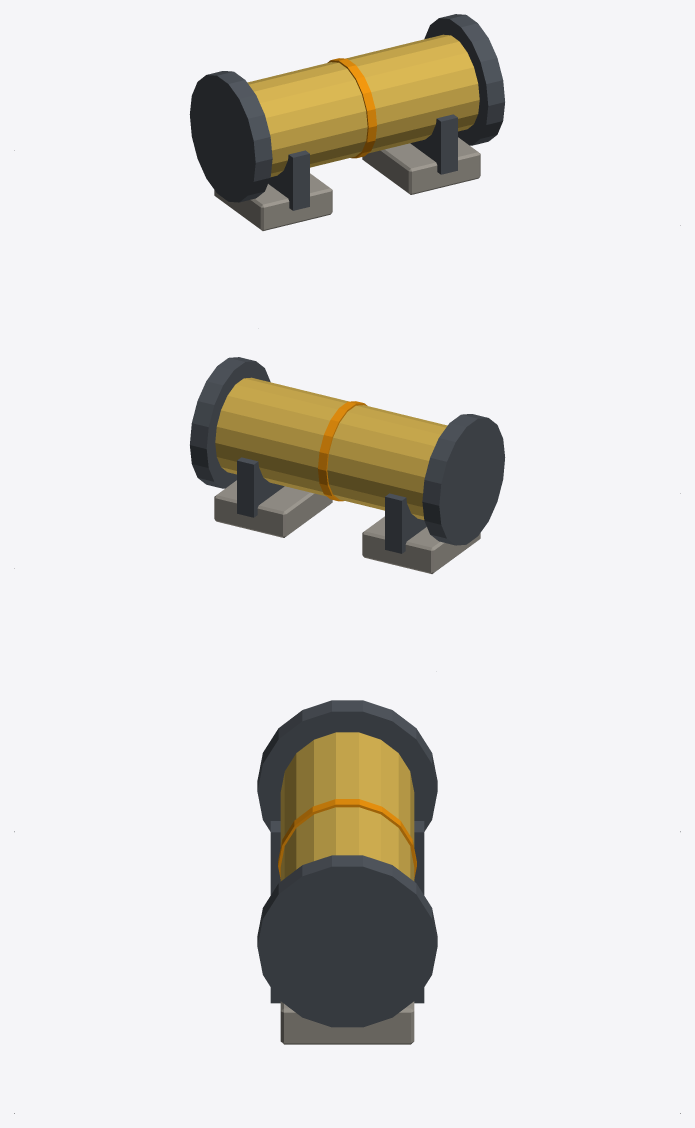
File: tuyau_seul_t2.glb
The picture shows the model from 3 angles, top to bottom: view 1: azimuth 30°, elevation 25°; view 2: azimuth 150°, elevation 25°; view 3: azimuth 270°, elevation 25°; orthographic projection. The views are drawn at different scales.
Visible parts, largest first — view 1: pieces_laiton.014, pieces_acier_sombre.044, pieces_beton.044, pieces_rive_t2.014; view 2: pieces_laiton.014, pieces_acier_sombre.044, pieces_beton.044, pieces_rive_t2.014; view 3: pieces_acier_sombre.044, pieces_laiton.014, pieces_beton.044, pieces_rive_t2.014.
Part boxes in pixels (box(x1,y1,x2,y2)): pieces_laiton.014: box(247, 34, 479, 176); pieces_acier_sombre.044: box(189, 14, 504, 210); pieces_beton.044: box(214, 137, 480, 230); pieces_rive_t2.014: box(327, 58, 376, 158); pieces_laiton.014: box(215, 377, 447, 519); pieces_acier_sombre.044: box(190, 357, 505, 553); pieces_beton.044: box(214, 480, 480, 573); pieces_rive_t2.014: box(318, 401, 367, 501); pieces_acier_sombre.044: box(257, 700, 437, 1027); pieces_laiton.014: box(280, 732, 414, 881); pieces_beton.044: box(280, 1001, 414, 1044); pieces_rive_t2.014: box(278, 799, 416, 878).
Bounding box in the file's own units: 1 × 0.3129 × 1.
